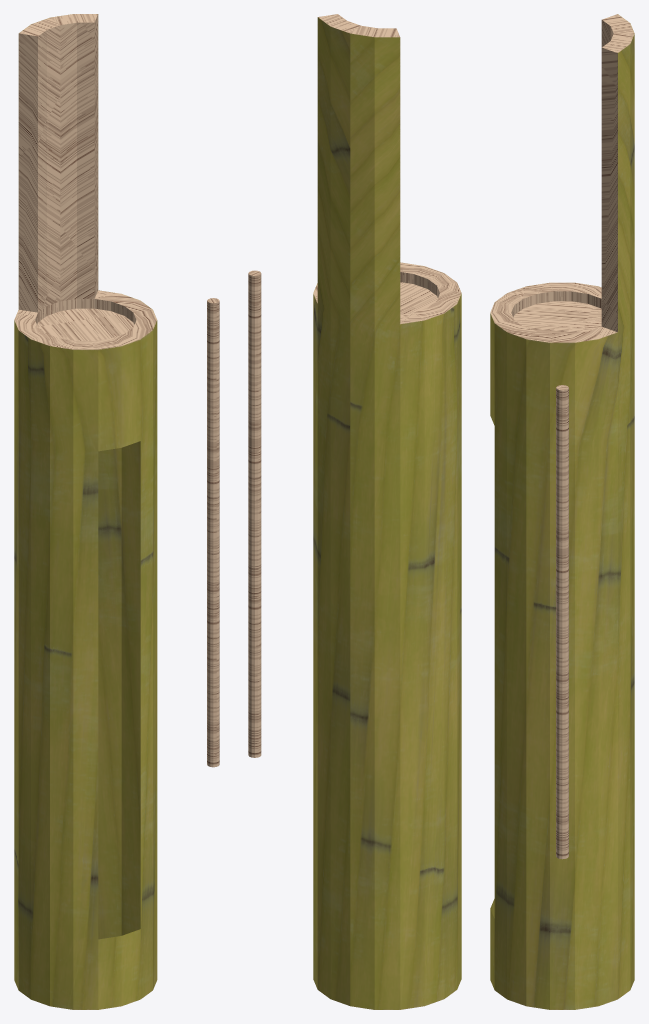
Rendered from Kentongan.fbx.
The picture shows the model from 3 angles, left to right: view 1: azimuth 30°, elevation 25°; view 2: azimuth 150°, elevation 25°; view 3: azimuth 270°, elevation 25°; orthographic projection. The views are drawn at different scales.
Parts seen in each view (by area): view 1: Circle; view 2: Circle; view 3: Circle.
Boxes of the visible parts, x1=… form: Circle: x1=14, y1=14, x2=219, y2=1009; Circle: x1=248, y1=14, x2=461, y2=1009; Circle: x1=490, y1=14, x2=634, y2=1009.
Size of the model in its own units: 369 by 1700 by 235.
Materials: 1 (1 with a texture image).
